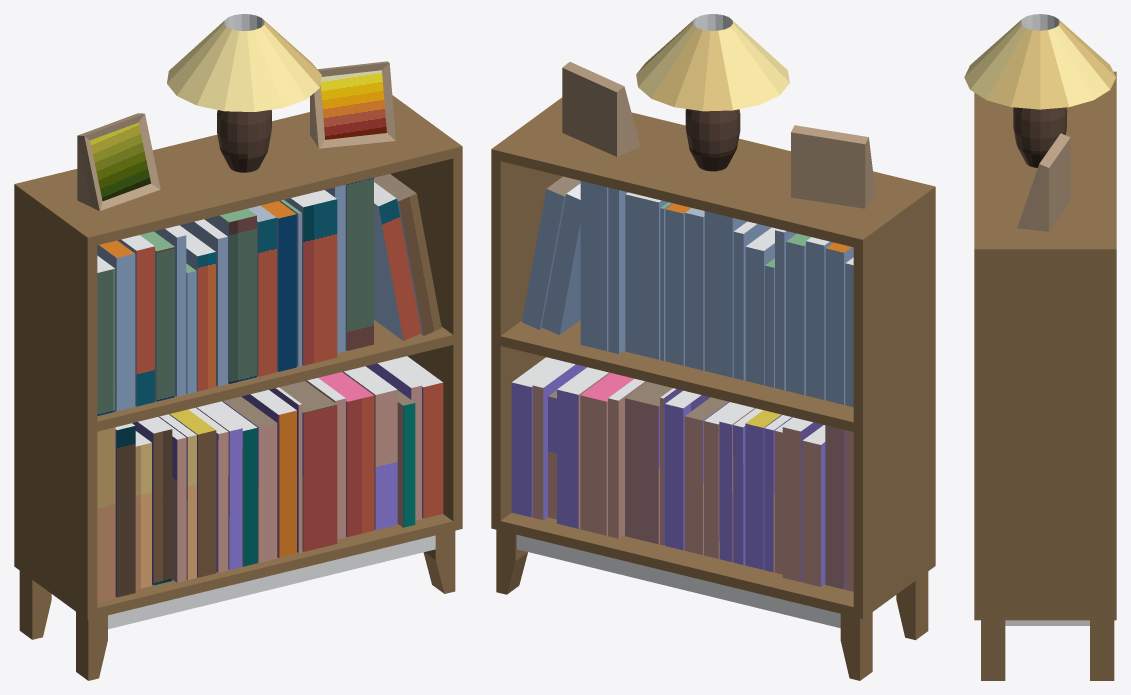
Rendered from Accesories_Bookshelft_B.glb.
The picture shows the model from 3 angles, left to right: view 1: azimuth 30°, elevation 25°; view 2: azimuth 150°, elevation 25°; view 3: azimuth 270°, elevation 25°; orthographic projection. The views are drawn at different scales.
Parts seen in each view (by area): view 1: Accesories_Bookshelft_B; view 2: Accesories_Bookshelft_B; view 3: Accesories_Bookshelft_B.
Part boxes in pixels (x1,y1,x2,y2): Accesories_Bookshelft_B: (14, 14, 462, 680); Accesories_Bookshelft_B: (491, 14, 935, 680); Accesories_Bookshelft_B: (964, 14, 1116, 680).
Size of the model in its own units: 1.09 by 1.65 by 0.3968.
Materials: 1 (1 with a texture image).
